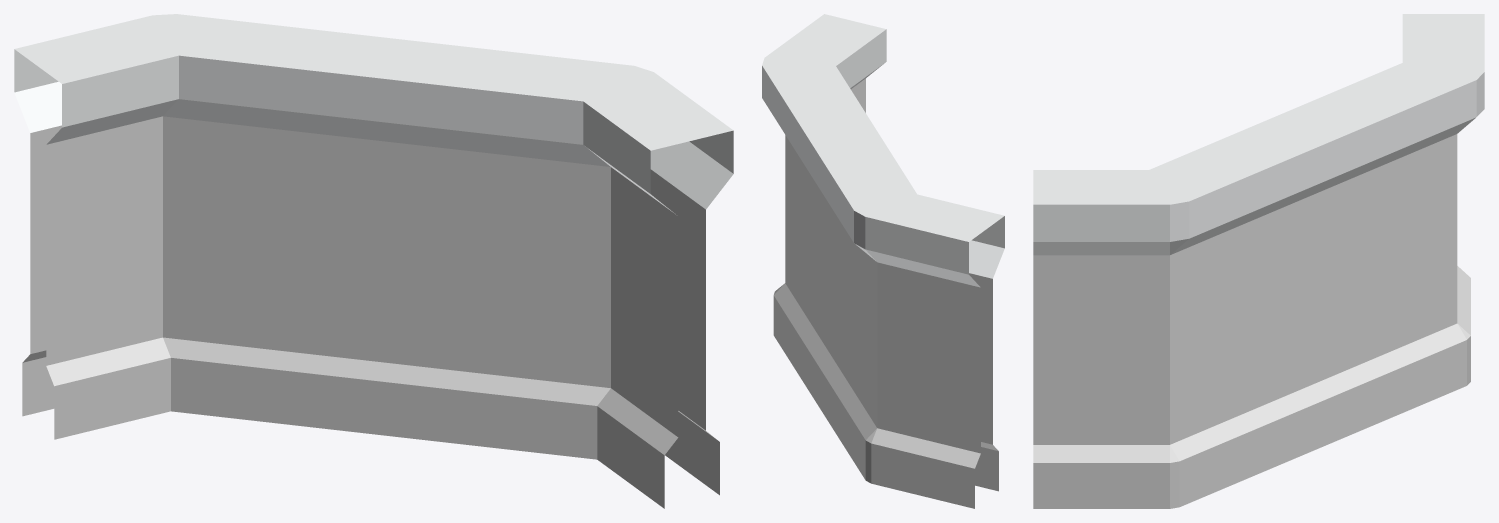
The model's file is wall_s_l.fbx.
3 renders of one model, left to right at view 1: azimuth 30°, elevation 25°; view 2: azimuth 150°, elevation 25°; view 3: azimuth 270°, elevation 25°, orthographic. The views are drawn at different scales.
Parts seen in each view (by area): view 1: wall_s_l; view 2: wall_s_l; view 3: wall_s_l.
Boxes of the visible parts, <box> form: wall_s_l: <box>14,14,733,508</box>; wall_s_l: <box>762,14,1004,508</box>; wall_s_l: <box>1033,14,1484,508</box>.
Size of the model in its own units: 3.3 by 2.5 by 3.3.
